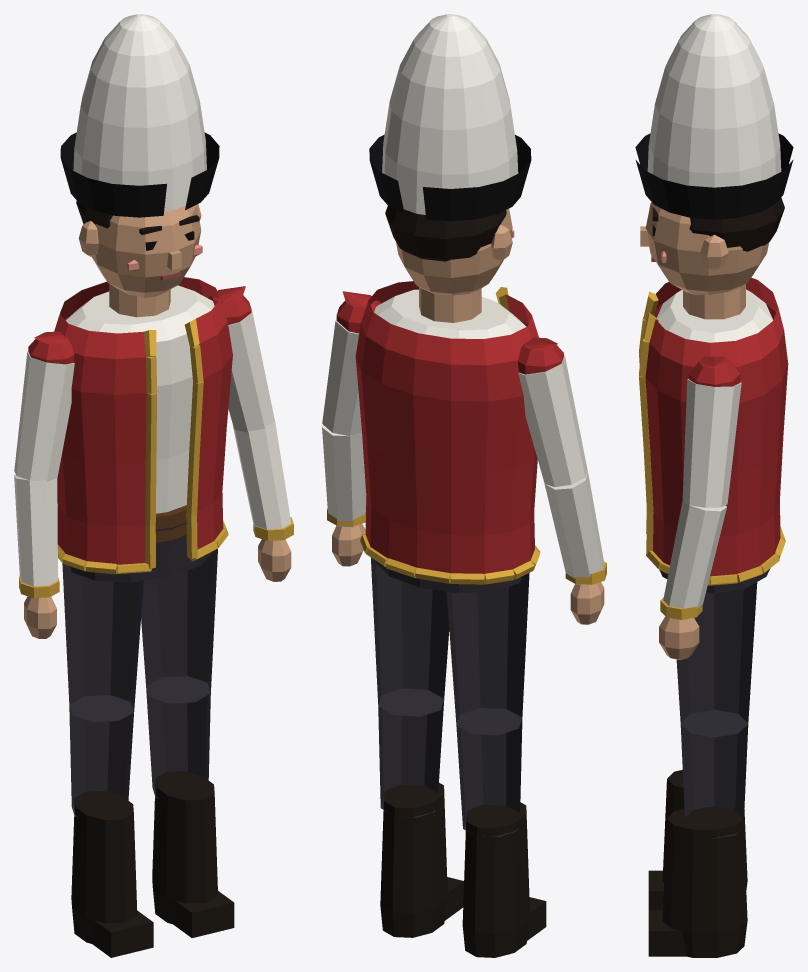
File: Child_Boy.obj
3 views of the same model, side by side, from view 1: azimuth 30°, elevation 25°; view 2: azimuth 150°, elevation 25°; view 3: azimuth 270°, elevation 25° (orthographic).
Visible parts, largest first — view 1: Child_Boy; view 2: Child_Boy; view 3: Child_Boy.
Boxes of the visible parts, x1=… form: Child_Boy: x1=14, y1=14, x2=293, y2=957; Child_Boy: x1=322, y1=14, x2=606, y2=957; Child_Boy: x1=635, y1=14, x2=793, y2=957.
Size of the model in its own units: 0.469 by 1.5 by 0.2354.
